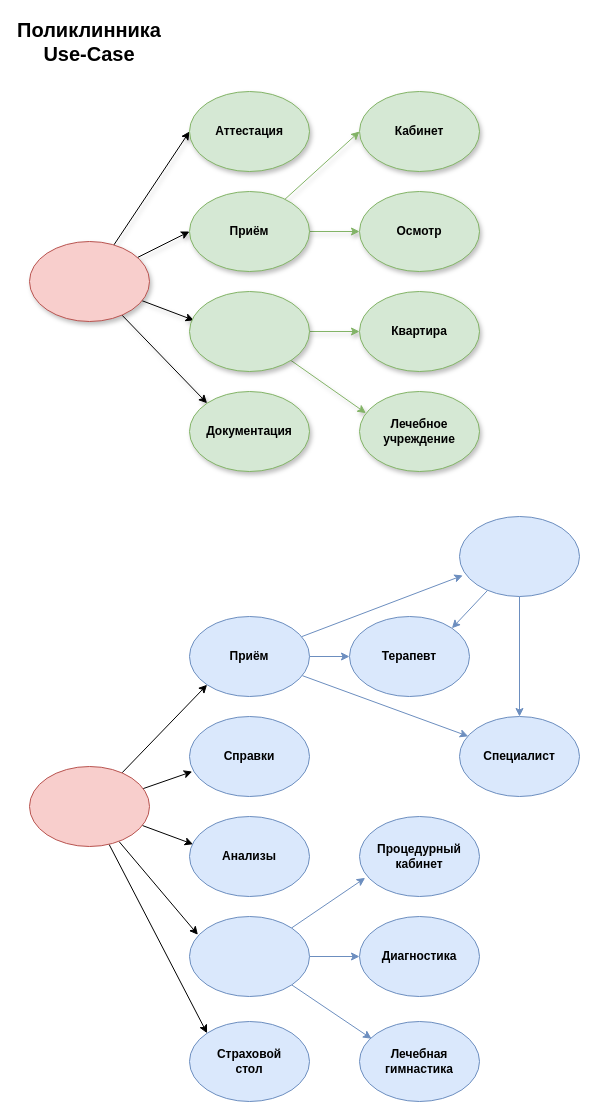
The diagram is 597 pixels wide and 1119 high, and some of its shapes have lost their labels. Each missing label, with the centre of its shape:
"Врач" goes at point 90,282.
"Вызов" goes at point 250,332.
"Запись" goes at point 519,556.
"Пациент" goes at point 89,806.
"Процедуры" goes at point 249,956.
